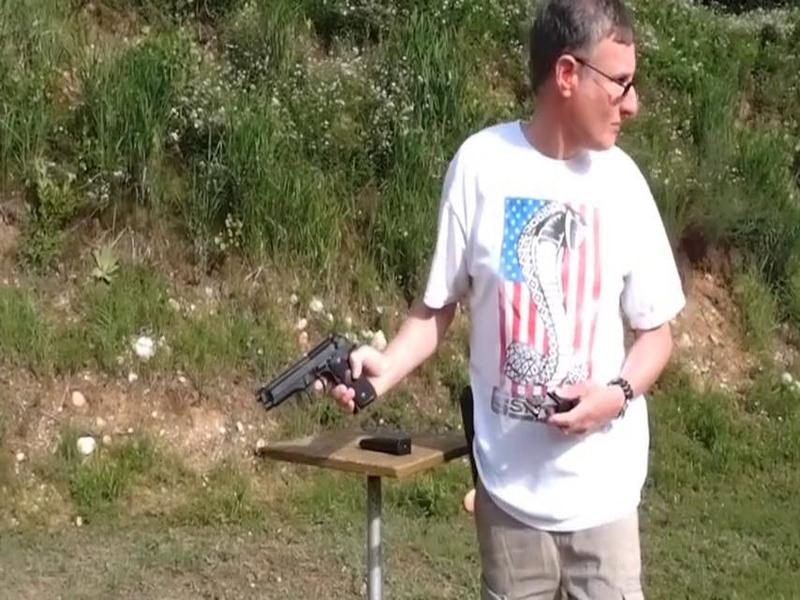Pistola: (223, 317, 400, 456)
